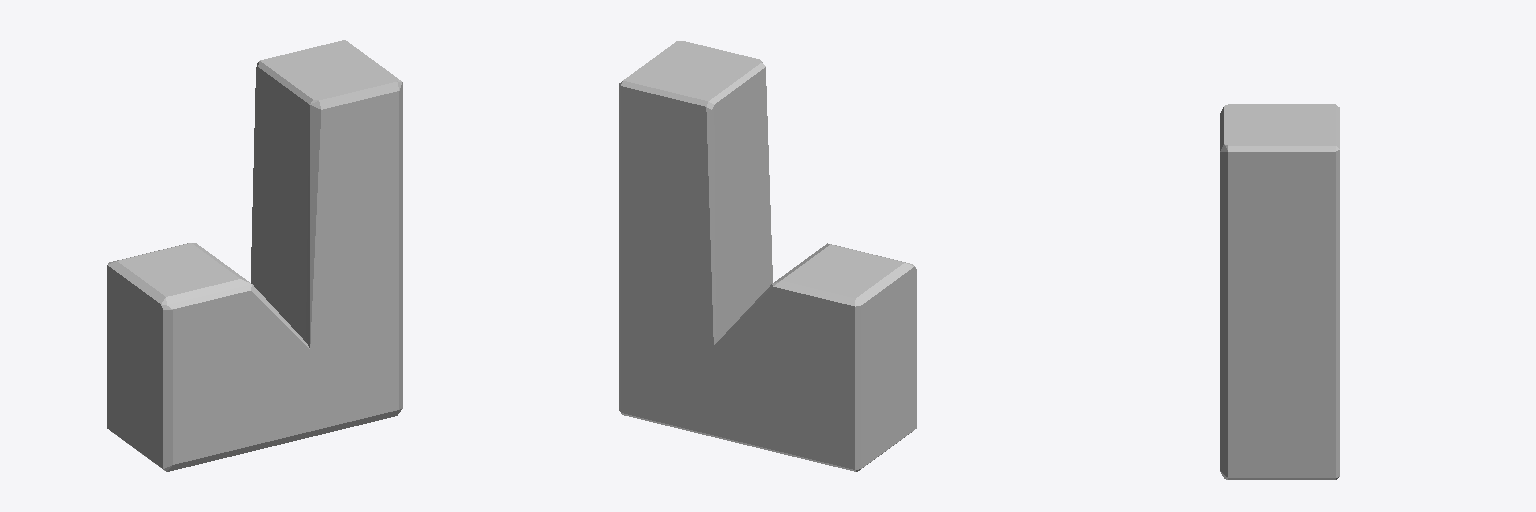
The model's file is J_Block.obj.
The picture shows the model from 3 angles: view 1: azimuth 30°, elevation 25°; view 2: azimuth 150°, elevation 25°; view 3: azimuth 270°, elevation 25°; orthographic projection.
Visible parts, largest first — view 1: convex_1, convex_0; view 2: convex_1, convex_0; view 3: convex_1.
Part boxes in pixels (x1,y1,x2,y2): convex_1: (251, 40, 402, 437); convex_0: (107, 243, 309, 471); convex_1: (619, 41, 772, 437); convex_0: (714, 243, 916, 471); convex_1: (1220, 104, 1339, 479).
Bounding box in the file's own units: 38.85 × 51.4 × 16.73.